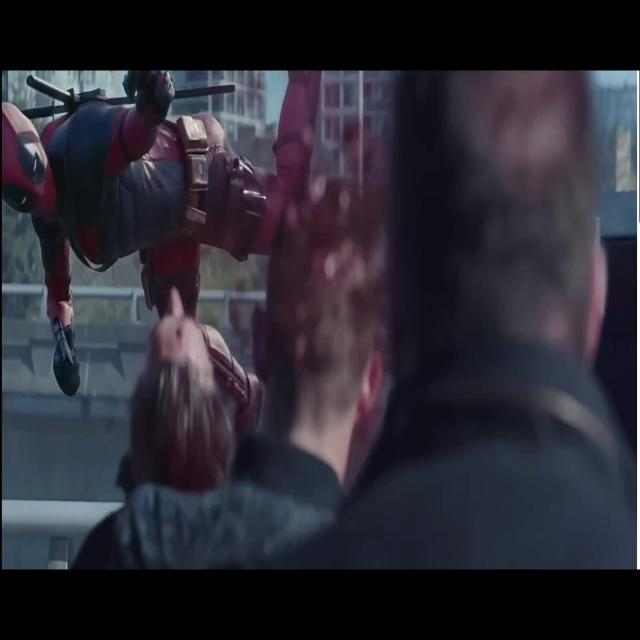weapons: (35, 295, 91, 404)
